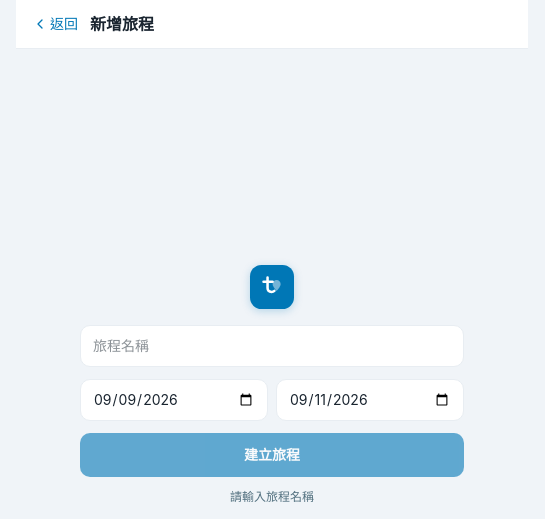
NewTripPage › disables the create button until name and dates are filled
expect the button "建立旅程" is disabled: met, box [80,432,464,476]
Clear the date field named "開始日期" at coordinates (174, 400), box [80,378,268,420]
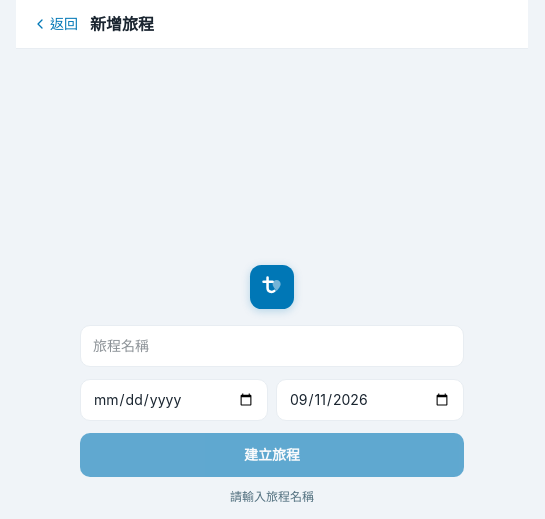
Clear the date field named "結束日期" at coordinates (370, 400), box [276,378,464,420]
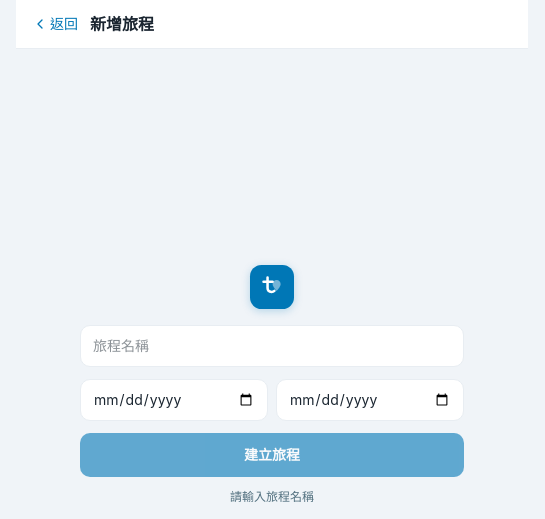
Type "東京" into the field with placeholder "旅程名稱" at coordinates (272, 346), box [80,324,464,366]
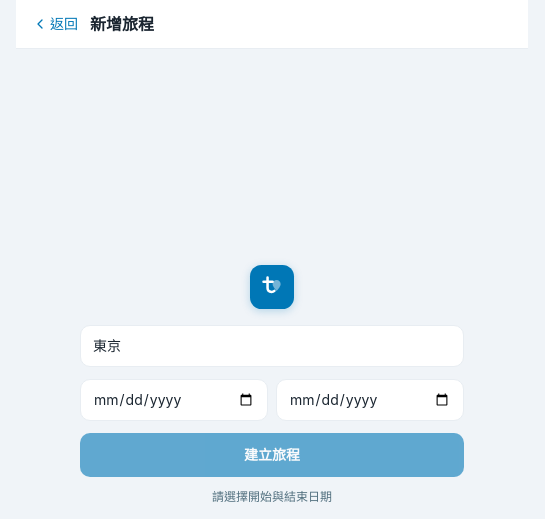
expect the button "建立旅程" is disabled: met, box [80,432,464,476]
Type "2026-09-01" into the date field named "開始日期" at coordinates (174, 400), box [80,378,268,420]
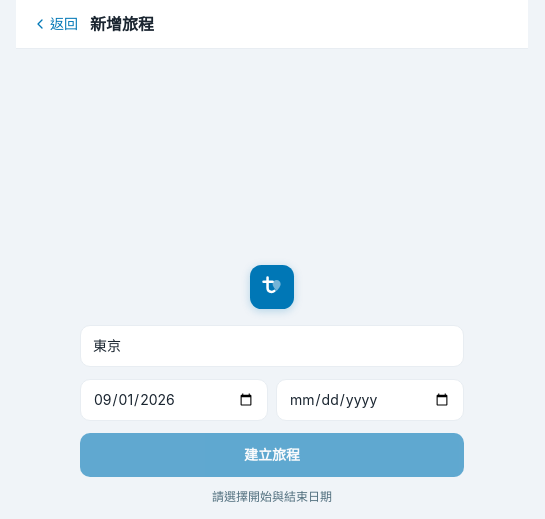
Type "2026-09-03" into the date field named "結束日期" at coordinates (370, 400), box [276,378,464,420]
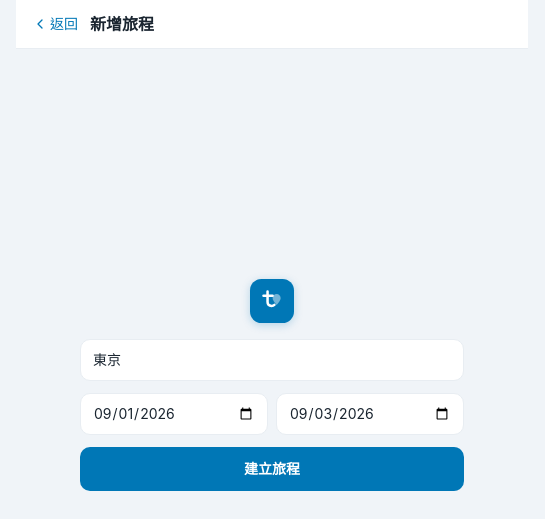
expect the button "建立旅程" is enabled: met, box [80,446,464,490]
